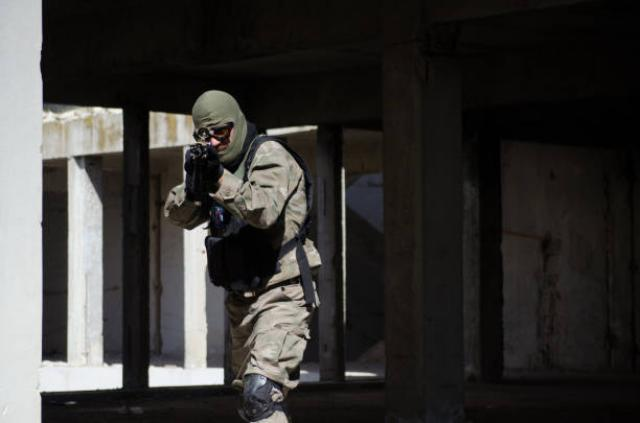other: (160, 92, 320, 421)
